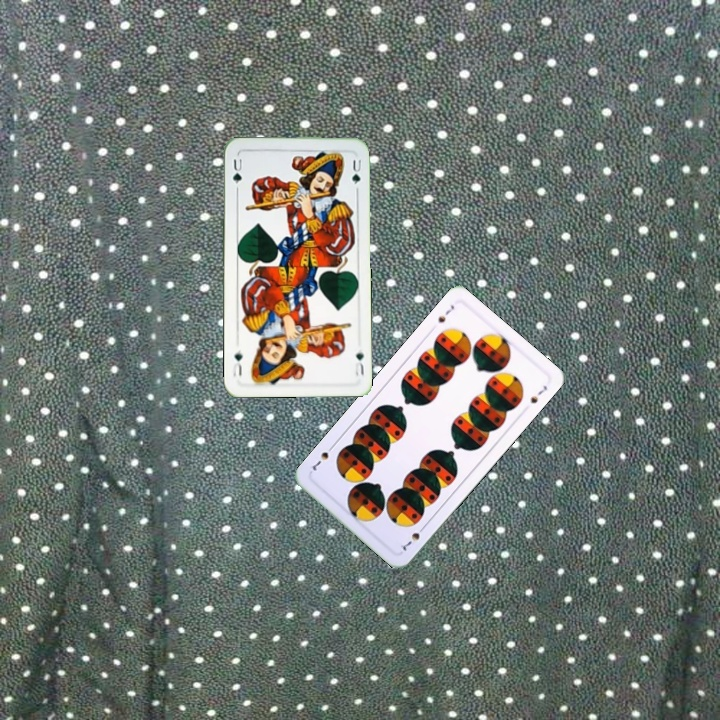GU: (229, 155, 245, 193), (351, 345, 366, 379)
S7: (396, 521, 428, 554), (434, 300, 457, 325)
